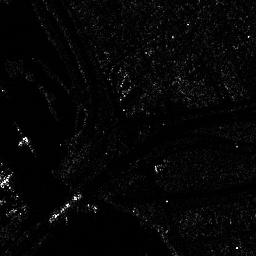ship: (47, 193, 82, 223)
